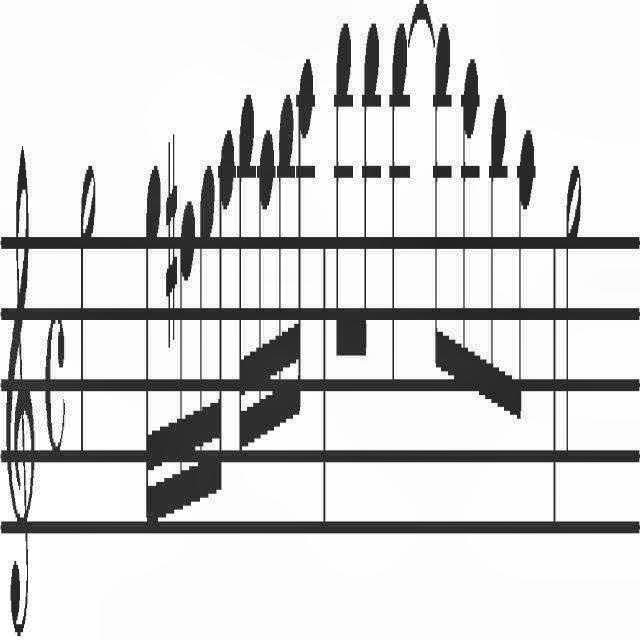Bass-clef: (4, 136, 36, 638)
Diez: (166, 130, 178, 352)
Eighth-note: (353, 19, 381, 369), (484, 93, 508, 423), (457, 53, 479, 403), (332, 13, 352, 391), (512, 127, 536, 433), (432, 18, 452, 378)
Half-note: (564, 156, 584, 466), (79, 152, 97, 462)
Quarter-note: (390, 18, 408, 390)
Sixteenth-note: (295, 61, 315, 463), (217, 124, 236, 526), (196, 162, 216, 530), (237, 87, 255, 465), (143, 168, 161, 544), (276, 86, 294, 458), (175, 200, 195, 524), (258, 125, 274, 467)
